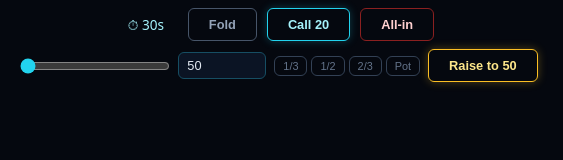
direct raise input › typing a value commits it on blur
Replace the text in the number field with class "raise-input" with "150" at (222, 66), box [178,52,266,79]
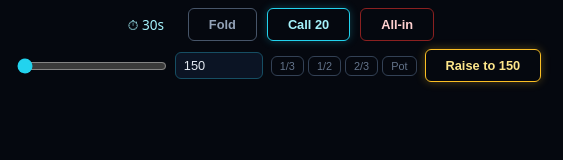
Leave the number field with class "raise-input", box [175,52,263,79]
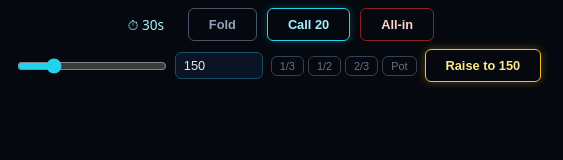
Check: the button with class "raise" reads "Raise to 150", box [424,49,541,82]
Check: the slider with class "raise-slider" holds "150", box [17,58,167,74]
